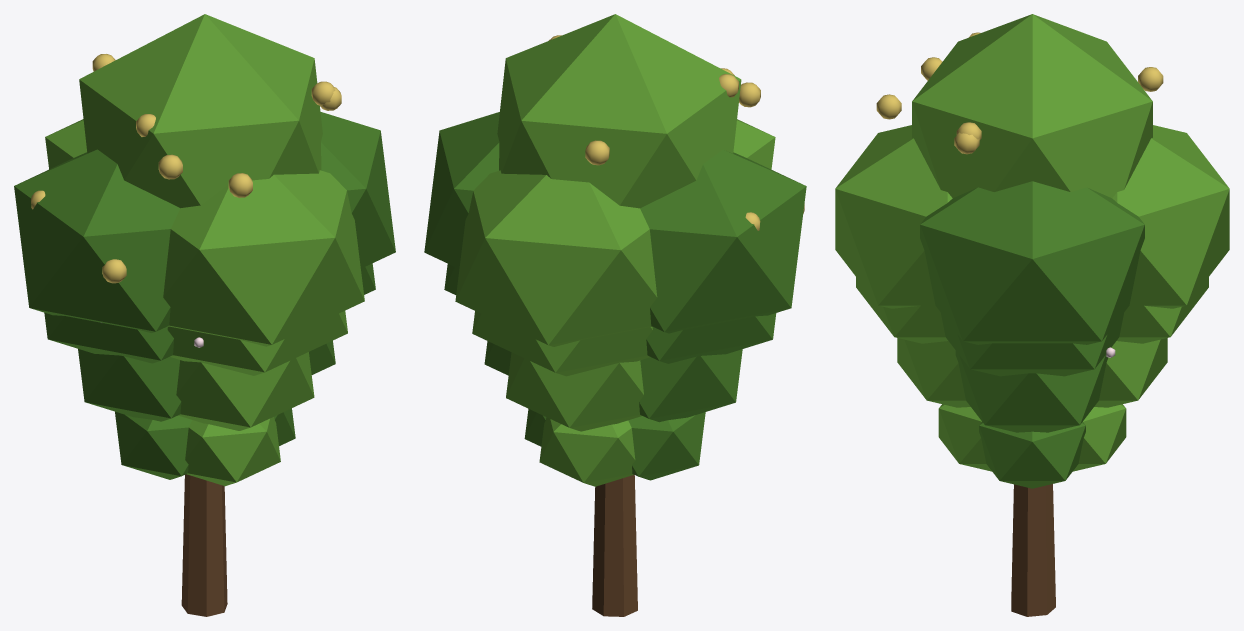
File: Crop_Fruit_Pear.fbx
3 renders of one model, left to right at view 1: azimuth 30°, elevation 25°; view 2: azimuth 150°, elevation 25°; view 3: azimuth 270°, elevation 25°, orthographic.
Visible parts, largest first — view 1: Crop_Fruit_Pear__S4, Crop_Fruit_Pear__S2, Crop_Fruit_Pear__S1, Crop_Fruit_Pear__S3; view 2: Crop_Fruit_Pear__S4, Crop_Fruit_Pear__S2, Crop_Fruit_Pear__S1, Crop_Fruit_Pear__S3; view 3: Crop_Fruit_Pear__S4, Crop_Fruit_Pear__S2, Crop_Fruit_Pear__S1, Crop_Fruit_Pear__S3.
Part boxes in pixels (left/top/right/bottom): Crop_Fruit_Pear__S4: left=14, top=14, right=395, bottom=616; Crop_Fruit_Pear__S2: left=78, top=340, right=335, bottom=430; Crop_Fruit_Pear__S1: left=115, top=408, right=295, bottom=486; Crop_Fruit_Pear__S3: left=44, top=263, right=375, bottom=375; Crop_Fruit_Pear__S4: left=424, top=14, right=806, bottom=616; Crop_Fruit_Pear__S2: left=484, top=341, right=742, bottom=431; Crop_Fruit_Pear__S1: left=524, top=409, right=705, bottom=486; Crop_Fruit_Pear__S3: left=444, top=264, right=776, bottom=376; Crop_Fruit_Pear__S4: left=835, top=14, right=1229, bottom=616; Crop_Fruit_Pear__S2: left=897, top=338, right=1167, bottom=432; Crop_Fruit_Pear__S1: left=938, top=404, right=1126, bottom=488; Crop_Fruit_Pear__S3: left=856, top=277, right=1208, bottom=376.
Size of the model in its own units: 0.551 by 0.888 by 0.5353.
